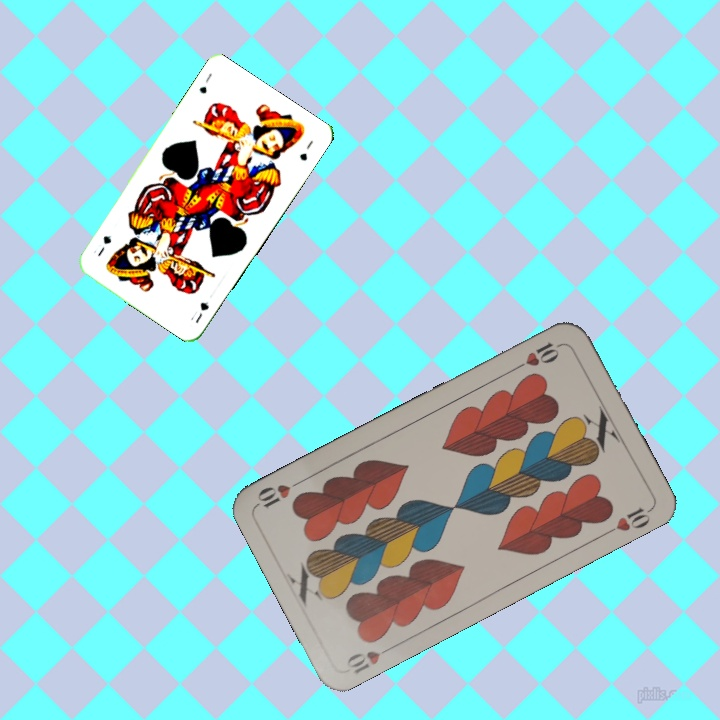GU: (191, 297, 212, 326), (195, 69, 215, 97)
H10: (342, 641, 397, 677), (511, 338, 566, 373)
